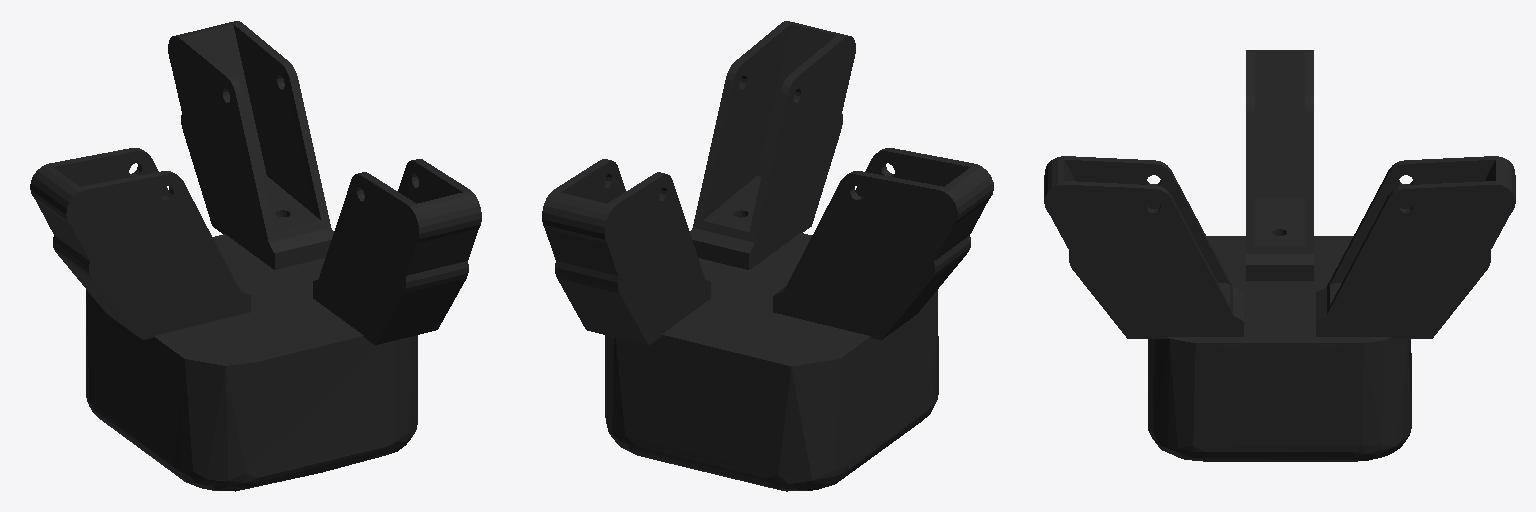
URDF robot description (lbr_iiwa_with_wsg50):
<?xml version="1.0" ?>
<robot name="lbr_iiwa_with_wsg50">

  <!-- Import Rviz colors -->
  <material name="Grey">
    <color rgba="0.2 0.2 0.2 1.0"/>
  </material>
  <material name="Orange">
    <color rgba="1.0 0.423529411765 0.0392156862745 1.0"/>
  </material>
  <material name="Blue">
  <color rgba="0.5 0.7 1.0 1.0"/>
</material>

  <!-- link 0 -->
  <link name="lbr_iiwa_link_0">
  <selfCollide>false</selfCollide>
    <inertial>
      <mass value="0.1"/>
      <origin xyz="-0.1 0 0.07" rpy="0 0 0"/>
      <inertia ixx="0.05" ixy="0" ixz="0" iyy="0.06" iyz="0" izz="0.03"/>
    </inertial>
    <collision name="lbr_iiwa_link_0_collision">
      <origin xyz="0 0 0" rpy="0 0 0"/>
      <geometry>
        <mesh filename="package://meshes//kuka//link_0.stl" scale="1 1 1"/>
      </geometry>
    </collision>
    <visual name="lbr_iiwa_link_0_visual">
      <origin xyz="0 0 0" rpy="0 0 0"/>
      <geometry>
        <mesh filename="package://meshes//kuka//link_0.stl" scale="1 1 1"/>
      </geometry>
      <material name="Grey"/>
    </visual>
  </link>

  <!-- joint between link_0 and link_1 -->
  <joint name="J0" type="revolute">
    <parent link="lbr_iiwa_link_0"/>
    <child link="lbr_iiwa_link_1"/>
    <origin xyz="0 0 0.1575" rpy="0 0 0"/>
    <axis xyz="0 0 1"/>
    <limit lower="-2.96706" upper="2.96706" effort="300.0" velocity="10.0"/>
  </joint>


  <!-- link 1 -->
  <link name="lbr_iiwa_link_1">
  <selfCollide>false</selfCollide>
    <inertial>
      <mass value="4"/>
      <origin xyz="0   -0.03  0.12" rpy="0 0 0"/>
      <inertia ixx="0.1" ixy="0" ixz="0" iyy="0.09" iyz="0" izz="0.02"/>
    </inertial>
    <collision name="lbr_iiwa_link_1_collision">
      <origin xyz="0 0 0" rpy="0 0 0"/>
      <geometry>
        <mesh filename="package://meshes//kuka//link_1.stl" scale="1 1 1"/>
      </geometry>
    </collision>
    <visual name="lbr_iiwa_link_1_visual">
      <origin xyz="0 0 0" rpy="0 0 0"/>
      <geometry>
        <mesh filename="package://meshes//kuka//link_1.stl" scale="1 1 1"/>
      </geometry>
      <material name="Blue"/>
    </visual>
  </link>

  <!-- joint between link_1 and link_2 -->
  <joint name="J1" type="revolute">
    <parent link="lbr_iiwa_link_1"/>
    <child link="lbr_iiwa_link_2"/>
    <origin xyz="0 0 0.2025" rpy="1.5708 0 -3.14159"/>
    <axis xyz="0 0 1"/>
    <limit lower="-2.0944" upper="2.0944" effort="300.0" velocity="10.0"/>
  </joint>

  <!-- link 2 -->
  <link name="lbr_iiwa_link_2">
  <selfCollide>false</selfCollide>
    <inertial>
      <mass value="4"/>
      <origin xyz="0.00029 0.059   0.042" rpy="0 0 0"/>
      <inertia ixx="0.05" ixy="0" ixz="0" iyy="0.018" iyz="0" izz="0.044"/>
    </inertial>
    <collision name="lbr_iiwa_link_2_collision">
      <origin xyz="0 0 0" rpy="0 0 0"/>
      <geometry>
        <mesh filename="package://meshes//kuka//link_2.stl" scale="1 1 1"/>
      </geometry>
    </collision>
    <visual name="lbr_iiwa_link_2_visual">
      <origin xyz="0 0 0" rpy="0 0 0"/>
      <geometry>
        <mesh filename="package://meshes//kuka//link_2.stl" scale="1 1 1"/>
      </geometry>
      <material name="Blue"/>
    </visual>
  </link>

  <!-- joint between link_2 and link_3 -->
  <joint name="J2" type="revolute">
    <parent link="lbr_iiwa_link_2"/>
    <child link="lbr_iiwa_link_3"/>
    <origin xyz="0     0.2045 0" rpy="1.5708 0 -3.14159"/>
    <axis xyz="0 0 1"/>
    <limit lower="-2.96706" upper="2.96706" effort="300.0" velocity="10.0"/>
  </joint>

  <link name="lbr_iiwa_link_3">
  <selfCollide>false</selfCollide>
    <inertial>
      <mass value="3"/>
      <origin xyz="0   0.03 0.13" rpy="0 0 0"/>
      <inertia ixx="0.08" ixy="0" ixz="0" iyy="0.075" iyz="0" izz="0.01"/>
    </inertial>
    <collision name="lbr_iiwa_link_3_collision">
      <origin xyz="0 0 0" rpy="0 0 0"/>
      <geometry>
        <mesh filename="package://meshes//kuka//link_3.stl" scale="1 1 1"/>
      </geometry>
    </collision>
    <visual name="lbr_iiwa_link_3_visual">
      <origin xyz="0 0 0" rpy="0 0 0"/>
      <geometry>
        <mesh filename="package://meshes//kuka//link_3.stl" scale="1 1 1"/>
      </geometry>
      <material name="Orange"/>
    </visual>
  </link>

  <joint name="J3" type="revolute">
    <parent link="lbr_iiwa_link_3"/>
    <child link="lbr_iiwa_link_4"/>
    <origin xyz="0     0     0.2155" rpy="1.5708 0     0"/>
    <axis xyz="0 0 1"/>
    <limit lower="-2.0944" upper="2.0944" effort="300.0" velocity="10.0"/>
  </joint>

  <link name="lbr_iiwa_link_4">
  <selfCollide>false</selfCollide>
    <inertial>
      <mass value="2.7"/>
      <origin xyz="0    0.067 0.034" rpy="0 0 0"/>
      <inertia ixx="0.03" ixy="0" ixz="0" iyy="0.01" iyz="0" izz="0.029"/>
    </inertial>
    <collision name="lbr_iiwa_link_4_collision">
      <origin xyz="0 0 0" rpy="0 0 0"/>
      <geometry>
        <mesh filename="package://meshes//kuka//link_4.stl" scale="1 1 1"/>
      </geometry>
    </collision>
    <visual name="lbr_iiwa_link_4_visual">
      <origin xyz="0 0 0" rpy="0 0 0"/>
      <geometry>
        <mesh filename="package://meshes//kuka//link_4.stl" scale="1 1 1"/>
      </geometry>
      <material name="Blue"/>
    </visual>
  </link>


  <joint name="J4" type="revolute">
    <parent link="lbr_iiwa_link_4"/>
    <child link="lbr_iiwa_link_5"/>
    <origin xyz="0     0.1845 0" rpy="1.5708  0      3.14159"/>
    <axis xyz="0 0 1"/>
    <limit lower="-2.96706" upper="2.96706" effort="300.0" velocity="10.0"/>
  </joint>


  <link name="lbr_iiwa_link_5">
  <selfCollide>false</selfCollide>
    <inertial>
      <mass value="1.7"/>
      <origin xyz="0.0001 0.021  0.076" rpy="0 0 0"/>
      <inertia ixx="0.02" ixy="0" ixz="0" iyy="0.018" iyz="0" izz="0.005"/>
    </inertial>
    <collision name="lbr_iiwa_link_5_collision">
      <origin xyz="0 0 0" rpy="0 0 0"/>
      <geometry>
        <mesh filename="package://meshes//kuka//link_5.stl" scale="1 1 1"/>
      </geometry>
    </collision>
    <visual name="lbr_iiwa_link_5_visual">
      <origin xyz="0 0 0" rpy="0 0 0"/>
      <geometry>
        <mesh filename="package://meshes//kuka//link_5.stl" scale="1 1 1"/>
      </geometry>
      <material name="Blue"/>
    </visual>
  </link>

  <joint name="J5" type="revolute">
    <parent link="lbr_iiwa_link_5"/>
    <child link="lbr_iiwa_link_6"/>
    <origin xyz="0     0     0.2155" rpy="1.5708 0     0"/>
    <axis xyz="0 0 1"/>
    <limit lower="-2.0944" upper="2.0944" effort="300.0" velocity="10.0"/>
  </joint>

  <link name="lbr_iiwa_link_6">
  <selfCollide>false</selfCollide>
    <inertial>
      <mass value="1.8"/>
      <origin xyz="0      0.00059 0.0004" rpy="0 0 0"/>
      <inertia ixx="0.005" ixy="0" ixz="0" iyy="0.0036" iyz="0" izz="0.0047"/>
    </inertial>
    <collision name="lbr_iiwa_link_6_collision">
      <origin xyz="0 0 0" rpy="0 0 0"/>
      <geometry>
        <mesh filename="package://meshes//kuka//link_6.stl" scale="1 1 1"/>
      </geometry>
    </collision>
    <visual name="lbr_iiwa_link_6_visual">
      <origin xyz="0 0 0" rpy="0 0 0"/>
      <geometry>
        <mesh filename="package://meshes//kuka//link_6.stl" scale="1 1 1"/>
      </geometry>
      <material name="Orange"/>
    </visual>
  </link>

  <joint name="J6" type="revolute">
    <parent link="lbr_iiwa_link_6"/>
    <child link="lbr_iiwa_link_7"/>
    <origin xyz="0    0.081 0" rpy="1.5708   0      -3.14159"/>
    <axis xyz="0 0 1"/>
    <limit lower="-3.05433" upper="3.05433" effort="300.0" velocity="10.0"/>
  </joint>

  <link name="lbr_iiwa_link_7">
  <selfCollide>false</selfCollide>
    <inertial>
      <mass value="0.3"/>
      <origin xyz="0   0   0.02" rpy="0 0 0"/>
      <inertia ixx="0.001" ixy="0" ixz="0" iyy="0.001" iyz="0" izz="0.001"/>
    </inertial>
    <collision name="lbr_iiwa_link_7_collision">
      <origin xyz="0 0 0" rpy="0 0 0"/>
      <geometry>
        <mesh filename="package://meshes//kuka//link_7.stl" scale="1 1 1"/>
      </geometry>
    </collision>
    <visual name="lbr_iiwa_link_7_visual">
      <origin xyz="0 0 0" rpy="0 0 0"/>
      <geometry>
        <mesh filename="package://meshes//kuka//link_7.stl" scale="1 1 1"/>
      </geometry>
      <material name="Grey"/>
    </visual>
  </link>

<!-- Palm -->

  <joint name="base_joint" type="fixed">
    <parent link="lbr_iiwa_link_7"/>
    <child link="hand_base_link"/>
    <origin xyz="0 0 0.132936" rpy="0 0 0"/> <!-- 0.044 -->
    <axis xyz="0 0 0"/>
    <limit lower="0" upper="0" effort="0" velocity="0"/>
  </joint>

  <link name="hand_base_link"> </link>

  <!-- pas conforme au setup reel -->
  <!-- xyz="-0.11876 0 0.11935"
       rpy="0 0.93236 0"/>-->
  <!-- setup reel-->
  <joint name="hand_interface_to_base" type="fixed">
    <origin rpy="0 0.0 0" xyz="0 0 0.0"/> <!-- 0.132936 -->
    <parent link="hand_base_link"/>
    <child link="hand_base_hand"/>
    <axis xyz="0 0 0"/>
  </joint>

  <link name="hand_base_hand">
    <selfCollide>false</selfCollide>
    <inertial>
      <origin rpy="0 0 0" xyz="0.00 0.0 -0.04835"/>
      <mass value="2.9623"/>
      <inertia ixx="0.0098688" ixy="0" ixz="-0.00072557" iyy="0.011075" iyz="0" izz="0.015946"/>
    </inertial>
    <visual>
      <origin rpy="0 0 0" xyz="0 0 0"/>
      <geometry>
        <mesh filename="package://visual/paume/base_hand_paume1.STL" />
        <!--  filename="package://cea_robots/meshes/hand/visual/base_link.STL" />-->
      </geometry>
      <material name="Grey"/>
    </visual>
    <collision>
      <origin rpy="0 0 0" xyz="0 0 0"/>
      <geometry>
        <mesh filename="package://collision/paume/base_hand_paume1.STL"/>
        <!-- filename="package://cea_robots/meshes/hand/collision/base_link.STL" />-->
      </geometry>
    </collision>
  </link>

<!-- Finger 1 -->
<!-- Adduction / abduction Joint -->
<!-- Just a reminder joint frame are localized upon the parent joint frame -->
<!-- Then the inertia frame, link frame is localized upon this new joint frame -->
<!-- Same goes for visual and collision frame -->
<!-- rpy = pitch yaw roll ; 
remember that at each rotation we're using the old axes to do it not the new ones -->
  <joint name="base_finger_1" type="revolute">
    <origin rpy="0 -1.5708 -3.1416 " xyz="0.054 0.054 0.09885097"/>
    <parent link="hand_base_hand"/>
    <child link="finger1_B"/>
    <axis xyz="1 0 0"/>
    <dynamics damping="8"/>
    <limit effort="100" lower="-1.5708" upper="0" velocity="3"/>
  </joint>

  <link name="finger1_B">
    <selfCollide>false</selfCollide>
    <inertial>
      <origin rpy="0 0 0" xyz="-0.0465 -0.04775 -0.0"/>
      <mass value="0.519"/>
      <inertia ixx="0.0007" ixy="-0.0002" ixz="0.0" iyy="0.0006" iyz="0.0" izz="0.0011"/>
    </inertial>
    <visual>
      <origin rpy="0 0 0" xyz="0 0 0"/>
      <geometry>
        <mesh filename="package://visual/base_finger/finger.STL" />
      </geometry>
      <material name="Grey"/>
    </visual>
    <collision>
      <origin rpy="0 0 0" xyz="0 0 0"/>
      <geometry>
        <mesh filename="package://collision/base_finger/finger.STL" />
      </geometry>
    </collision>
  </link>

  <joint name="finger1_BP_joint" type="revolute">
    <origin rpy="0 0 0" xyz="0 -0.03255 0"/>
    <parent link="finger1_B"/>
    <child link="finger1_P"/>
    <axis xyz="0 0 1"/>
    <dynamics damping="0.3"/>
    <limit effort="5" lower="-1.3" upper="0.31416" velocity="5"/>  <!-- -0.43633 -->
  </joint>

  <link name="finger1_P">
    <selfCollide>false</selfCollide>
    <inertial>
      <origin rpy="0 0 0" xyz="0.044 -0.01009 0.0"/>
      <mass value="0.300"/>
      <inertia ixx="0.000092" ixy="-0.000061" ixz="0.0" iyy="0.00031" iyz="0.0" izz="0.00031"/>
      <!--<mass value="0.09833" />
          <inertia
              ixx="0.00003"
              ixy="-0.00002"
              ixz="0.0"
              iyy="0.00010"
              iyz="0.0"
              izz="0.00010" />-->
    </inertial>

    <visual>
      <origin rpy="0 0 0" xyz="0 0 0"/>
      <geometry>
        <mesh filename="package://visual/proximal/proximal_0.11.STL" />
      </geometry>
      <material name="Orange"/>
    </visual>

    <collision>
      <!--<origin rpy="0 0 0" xyz="0.04 -0.01 0"/>
      <geometry>
        <box size="0.090 0.030 0.033"/>
      </geometry>-->

      <origin rpy="0 0 0" xyz="0 0 0"/>
      <geometry>
        <mesh filename="package://collision/proximal/proximal_0.11.STL" />
      </geometry>
    </collision>
  </link>

  <joint name="finger1_PD_joint" type="revolute">
    <origin rpy="0 0 0" xyz="0.1 0 0.0"/>
    <parent link="finger1_P"/>
    <child link="finger1_D"/>
    <axis xyz="0 0 1"/>
    <dynamics damping="0.3"/>
    <limit effort="5" lower="-0.5" upper="1.0472" velocity="5"/>
  </joint>

  <link name="finger1_D">
    <selfCollide>false</selfCollide>
    <inertial>
      <origin rpy="0 0 0" xyz="0.04016 -0.00152 0.0"/>
      <mass value="0.150"/>
      <inertia ixx="0.000025" ixy="0.000013" ixz="0.0" iyy="0.000102" iyz="0.0" izz="0.000108"/>
      <!--<mass value="0.200" />
          <inertia
              ixx="0.000028"
              ixy="0.000014"
              ixz="0.0"
              iyy="0.000113"
              iyz="0.0"
              izz="0.000120" />-->
      <!--<mass value="0.02828" />
          <inertia
              ixx="0.000004"
              ixy="0.000002"
              ixz="0.0"
              iyy="0.000016"
              iyz="0.0"
              izz="0.000017" />-->
    </inertial>
    <visual>
      <origin rpy="0 0 0" xyz="0 0 0"/>
      <geometry>
        <mesh filename="package://visual/distal/distal_2P/distal_0.866.STL" />
      </geometry>
      <material name="Orange"/>
    </visual>
    <collision>
      <!--<origin rpy="0 1.57 0" xyz="0.030 -0.002 0"/>
      <geometry>
        <cylinder length="0.066" radius="0.011"/>
      </geometry>
      -->
      <origin rpy="0 0 0" xyz="0 0 0"/>
      <geometry>
        <mesh filename="package://collision/distal/distal_2P/distal_0.866.STL" />
      </geometry>
    </collision>

    <!--<collision>
      <origin rpy="0 0 0" xyz="0.063 -0.002 0"/>
      <geometry>
        <sphere radius="0.011"/>
      </geometry>
    </collision>-->
  </link>

<!-- FINGER 2 -->
<!-- Adduction / Abduction joint -->
  <joint name="base_finger_2" type="revolute">
    <origin rpy="3.1416 -1.5708 3.1416" xyz="0.054 -0.054 0.09885097"/>
    <parent link="hand_base_hand"/>
    <child link="finger2_B"/>
    <axis xyz="1 0 0"/>
    <dynamics damping="8"/>
    <limit effort="100" lower="0" upper="1.5708" velocity="3"/>
    <mimic joint="hand_abduction1" multiplier="-1" offset="0"/>
  </joint>

  <link name="finger2_B">
    <selfCollide>false</selfCollide>
    <inertial>
      <origin rpy="0 0 0" xyz="-0.0465 -0.04775 -0.0"/>
      <mass value="0.519"/>
      <inertia ixx="0.0007" ixy="-0.0002" ixz="0.0" iyy="0.0006" iyz="0.0" izz="0.0011"/>
    </inertial>
    <visual>
      <origin rpy="0 0 0" xyz="0 0 0"/>
      <geometry>
        <mesh filename="package://visual/base_finger/finger.STL" />
      </geometry>
      <material name="Grey"/>
    </visual>
    <collision>
      <origin rpy="0 0 0" xyz="0 0 0"/>
      <geometry>
        <mesh filename="package://collision/base_finger/finger.STL" />
      </geometry>
    </collision>
  </link>

  <joint name="finger2_BP_joint" type="revolute">
    <origin rpy="0 0 0" xyz="0 -0.03255 0"/>
    <parent link="finger2_B"/>
    <child link="finger2_P"/>
    <axis xyz="0 0 1"/>
    <dynamics damping="0.3"/>
    <limit effort="5" lower="-1.3" upper="0.31416" velocity="5"/>
  </joint>

  <link name="finger2_P">
    <selfCollide>false</selfCollide>
    <inertial>
      <origin rpy="0 0 0" xyz="0.044 -0.01009 0.0"/>
      <mass value="0.300"/>
      <inertia ixx="0.000092" ixy="-0.000061" ixz="0.0" iyy="0.00031" iyz="0.0" izz="0.00031"/>
      <!--<mass value="0.09833" />
          <inertia
              ixx="0.00003"
              ixy="-0.00002"
              ixz="0.0"
              iyy="0.00010"
              iyz="0.0"
              izz="0.00010" />-->
    </inertial>
    <visual>
      <origin rpy="0 0 0" xyz="0 0 0"/>
      <geometry>
        <mesh filename="package://visual/proximal/proximal_0.11.STL" />
      </geometry>
      <material name="Orange"/>
    </visual>
    <collision>
      <!--<origin rpy="0 0 0" xyz="0.04 -0.01 0"/>
      <geometry>
        <box size="0.090 0.030 0.033"/>
      </geometry>-->

      <origin rpy="0 0 0" xyz="0 0 0"/>
      <geometry>
        <mesh filename="package://collision/proximal/proximal_0.11.STL" />
      </geometry>
    </collision>
  </link>

  <joint name="finger2_PD_joint" type="revolute">
    <origin rpy="0 0 0" xyz="0.1 0 0.0"/>
    <parent link="finger2_P"/>
    <child link="finger2_D"/>
    <axis xyz="0 0 1"/>
    <dynamics damping="0.3"/>
    <limit effort="5" lower="-0.5" upper="1.0472" velocity="5"/>
  </joint>

  <link name="finger2_D">
    <selfCollide>false</selfCollide>
    <inertial>
      <origin rpy="0 0 0" xyz="0.04016 -0.00152 0.0"/>
      <mass value="0.150"/>
      <inertia ixx="0.000025" ixy="0.000013" ixz="0.0" iyy="0.000102" iyz="0.0" izz="0.000108"/>
      <!--<mass value="0.200" />
          <inertia
              ixx="0.000028"
              ixy="0.000014"
              ixz="0.0"
              iyy="0.000113"
              iyz="0.0"
              izz="0.000120" />-->
      <!--<mass value="0.02828" />
          <inertia
              ixx="0.000004"
              ixy="0.000002"
              ixz="0.0"
              iyy="0.000016"
              iyz="0.0"
              izz="0.000017" />-->
    </inertial>
    <visual>
      <origin rpy="0 0 0" xyz="0 0 0"/>
      <geometry>
        <mesh filename="package://visual/distal/distal_2P/distal_0.866.STL" />
      </geometry>
      <material name="Orange"/>
    </visual>
    <collision>
    <!--
      <origin rpy="0 1.57 0" xyz="0.030 -0.002 0"/>
      <geometry>
        <cylinder length="0.066" radius="0.011"/>
      </geometry>-->

      <origin rpy="0 0 0" xyz="0 0 0"/>
      <geometry>
        <mesh filename="package://collision/distal/distal_2P/distal_0.866.STL" />
      </geometry>
    </collision>
    <!--
    <collision>
      <origin rpy="0 0 0" xyz="0.063 -0.002 0"/>
      <geometry>
        <sphere radius="0.011"/>
      </geometry>
    </collision>-->
  </link>


  <!-- FINGER 3 -->

  <joint name="base_finger_3" type="fixed">
    <!-- position pas exactement bonne par rapport a la main reelle a 2-3 mm pres -->
    <origin rpy="-1.5708 -1.5708 0" xyz="-0.04398 0 0.09885097"/>
    <parent link="hand_base_hand"/>
    <child link="finger3_B"/>
    <axis xyz="0 0 0"/>
  </joint>

  <link name="finger3_B">
    <selfCollide>false</selfCollide>
    <inertial>
      <origin rpy="0 0 0" xyz="-0.0465 -0.04775 -0.0"/>
      <mass value="0.519"/>
      <inertia ixx="0.0007" ixy="-0.0002" ixz="0.0" iyy="0.0006" iyz="0.0" izz="0.0011"/>
    </inertial>
    <visual>
      <origin rpy="0 0 0" xyz="0 0 0"/>
      <geometry>
        <mesh filename="package://visual/base_finger/finger.STL" />
      </geometry>
      <material name="Grey"/>
    </visual>
    <collision>
      <origin rpy="0 0 0" xyz="0 0 0"/>
      <geometry>
        <mesh filename="package://collision/base_finger/finger.STL" />
      </geometry>
    </collision>
  </link>


  <joint name="finger3_BP_joint" type="revolute">
    <origin rpy="0 0 0" xyz="0 -0.03255 0"/>
    <parent link="finger3_B"/>
    <child link="finger3_P"/>
    <axis xyz="0 0 1"/>
    <dynamics damping="0.3"/>
    <limit effort="5" lower="-1.3" upper="0.31416" velocity="5"/>
  </joint>

  <link name="finger3_P">
    <selfCollide>false</selfCollide>
    <inertial>
      <origin rpy="0 0 0" xyz="0.044 -0.01009 0.0"/>
      <mass value="0.300"/>
      <inertia ixx="0.000092" ixy="-0.000061" ixz="0.0" iyy="0.00031" iyz="0.0" izz="0.00031"/>
      <!--<mass
                        value="0.09833" />
                    <inertia
                        ixx="0.00003"
                        ixy="-0.00002"
                        ixz="0.0"
                        iyy="0.00010"
                        iyz="0.0"
                        izz="0.00010" />-->
    </inertial>
    <visual>
      <origin rpy="0 0 0" xyz="0 0 0"/>
      <geometry>
        <mesh filename="package://visual/proximal/proximal_0.11.STL" />
      </geometry>
      <material name="Orange"/>
    </visual>

    <collision>

      <!--<origin rpy="0 0 0" xyz="0.04 -0.01 0"/>
      <geometry>
        <box size="0.090 0.030 0.033"/>
      </geometry>-->

      <origin rpy="0 0 0" xyz="0 0 0"/>
      <geometry>
        <mesh filename="package://collision/proximal/proximal_0.11.STL" />
      </geometry>

    </collision>
  </link>

  <joint name="finger3_PD_joint" type="revolute">
    <origin rpy="0 0 0" xyz="0.1 0 0.0"/>
    <parent link="finger3_P"/>
    <child link="finger3_D"/>
    <axis xyz="0 0 1"/>
    <dynamics damping="0.3"/>
    <limit effort="5" lower="-0.5" upper="1.0472" velocity="5"/>
  </joint>

  <link name="finger3_D">
    <selfCollide>false</selfCollide>
    <inertial>
      <origin rpy="0 0 0" xyz="0.04016 -0.00152 0.0"/>
      <mass value="0.150"/>
      <inertia ixx="0.000025" ixy="0.000013" ixz="0.0" iyy="0.000102" iyz="0.0" izz="0.000108"/>
      <!--<mass value="0.200" />
          <inertia
              ixx="0.000028"
              ixy="0.000014"
              ixz="0.0"
              iyy="0.000113"
              iyz="0.0"
              izz="0.000120" /> -->
      <!--<mass value="0.02828" />
          <inertia
            ixx="0.000004"
            ixy="0.000002"
            ixz="0.0"
            iyy="0.000016"
            iyz="0.0"
            izz="0.000017" /> -->
    </inertial>
    <visual>
      <origin rpy="0 0 0" xyz="0 0 0"/>
      <geometry>
        <mesh filename="package://visual/distal/distal_2P/distal_0.866.STL" />
      </geometry>
      <material name="Orange"/>
    </visual>
    <collision>
      <!-- 
      <origin rpy="0 1.57 0" xyz="0.030 -0.002 0"/> 
      <geometry>
      <cylinder length="0.066" radius="0.011"/> 
      </geometry>
      -->

      <origin rpy="0 0 0" xyz="0.0 0.0 0"/>
      <geometry>
        <mesh filename="package://collision/distal/distal_2P/distal_0.866.STL" />
      </geometry>
    </collision>

    <!--<collision>
      <origin rpy="0 0 0" xyz="0.063 -0.002 0"/>
      <geometry>
        <sphere radius="0.011"/>
      </geometry>
    </collision>-->
  </link>

  <joint name="hand_base_to_case" type="fixed">
    <origin rpy="0 0 0" xyz="0 0 0.013"/>
    <parent link="hand_base_hand"/>
    <child link="hand_case"/>
    <axis xyz="0 0 0"/>
  </joint>

  <link name="hand_case">
    <selfCollide>false</selfCollide>
    <visual>
      <origin rpy="0 0 0" xyz="0 0 0"/>
      <geometry>
        <mesh filename="package://visual/case/case_3d.STL"/>
      </geometry>
      <material name="Grey"/>
    </visual>
    <collision>
      <origin rpy="0 0 0" xyz="0 0 0"/>
      <geometry>
        <mesh filename="package://collision/case/case_3d.STL"/>
      </geometry>
    </collision>
  </link>

  <joint name="hand_case_to_grasp_center" type="fixed">
    <origin rpy="0 0 0" xyz="0 0 0.15"/>
    <parent link="hand_base_hand"/>
    <child link="hand_grasp_center"/>
    <axis xyz="0 0 0"/>
  </joint>

  <link name="hand_grasp_center"> </link>

</robot>

--- Facts derived from the render (not from the file) ---
3 views of the same robot in one strip: view 1: azimuth 30°, elevation 25°; view 2: azimuth 150°, elevation 25°; view 3: azimuth 270°, elevation 25° (orthographic).
Robot: lbr_iiwa_with_wsg50 — 21 links, 20 joints (15 revolute, 5 fixed); root link lbr_iiwa_link_0; default pose: every joint at zero.
Links seen in each view (by area): view 1: hand_base_hand, finger1_B, finger3_B, finger2_B; view 2: hand_base_hand, finger2_B, finger3_B, finger1_B; view 3: hand_base_hand, finger1_B, finger2_B, finger3_B.
Boxes of the visible links, bbox=[...] form: hand_base_hand: bbox=[86, 234, 417, 491]; finger1_B: bbox=[168, 21, 333, 269]; finger3_B: bbox=[30, 148, 250, 339]; finger2_B: bbox=[313, 159, 481, 344]; hand_base_hand: bbox=[605, 233, 938, 491]; finger2_B: bbox=[690, 21, 855, 269]; finger3_B: bbox=[773, 148, 993, 339]; finger1_B: bbox=[542, 159, 710, 345]; hand_base_hand: bbox=[1148, 236, 1411, 461]; finger1_B: bbox=[1316, 156, 1515, 338]; finger2_B: bbox=[1044, 156, 1243, 338]; finger3_B: bbox=[1246, 50, 1313, 280].
Bounding box of the posed robot: 0.2398 × 0.3231 × 0.2115 m (x, y, z).
Meshes: 13 distinct files referenced, 4 mesh visuals loaded (2 binary STL); not drawn: 15 (reference not matched to a file when rendering).